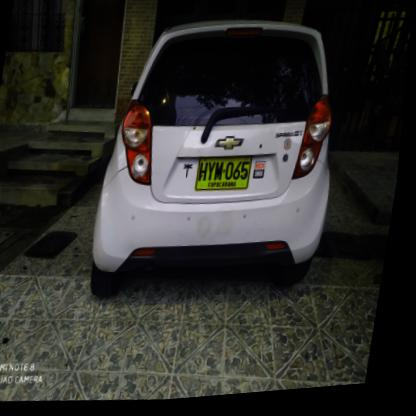placa: (195, 153, 259, 201)
